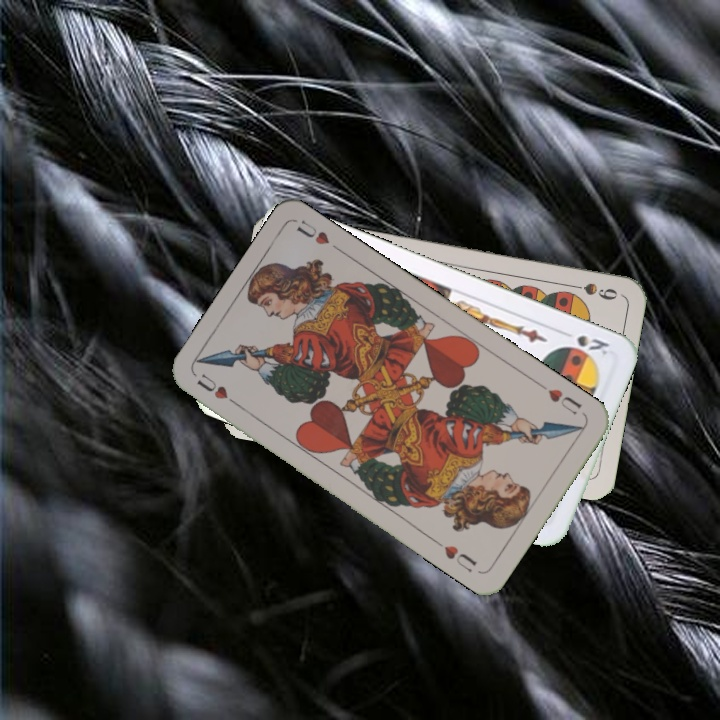HU: (193, 369, 244, 410), (544, 384, 584, 418)
S9: (562, 279, 620, 303)
SK: (556, 326, 612, 358)
